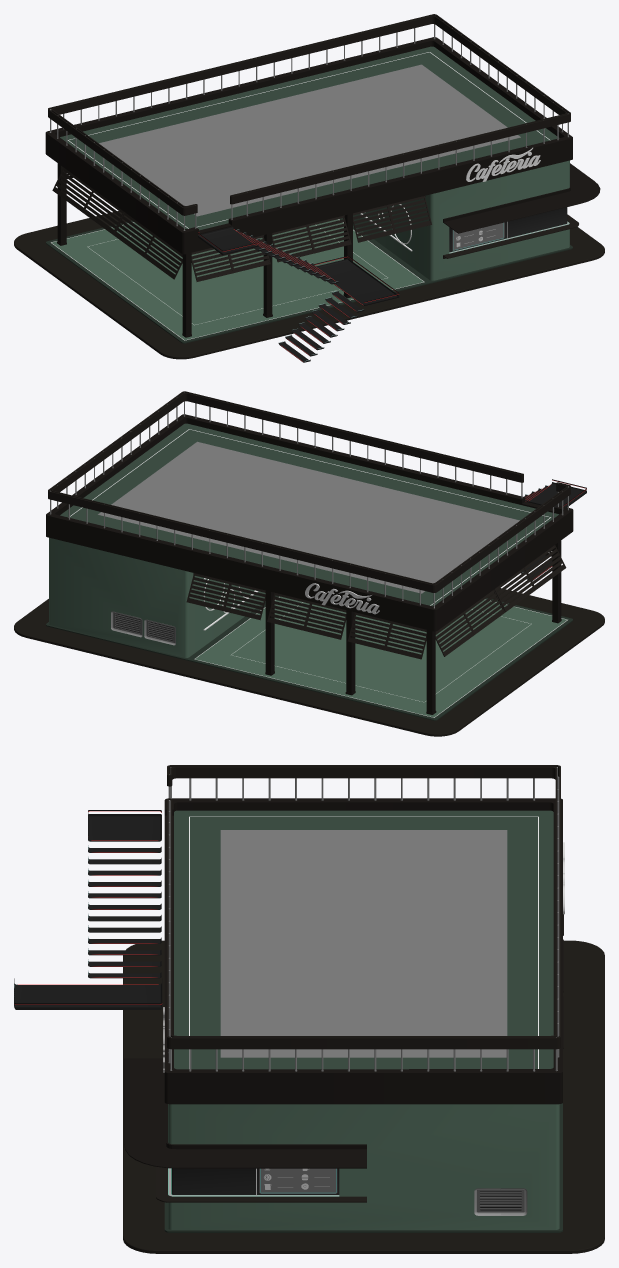
The model's file is Building_Cafe_005_L0.fbx.
3 renders of one model, top to bottom at view 1: azimuth 30°, elevation 25°; view 2: azimuth 150°, elevation 25°; view 3: azimuth 270°, elevation 25°, orthographic. The views are drawn at different scales.
Visible parts, largest first — view 1: Building_Cafe_005_L0; view 2: Building_Cafe_005_L0; view 3: Building_Cafe_005_L0.
Part boxes in pixels (box(x1,y1,x2,y2)): Building_Cafe_005_L0: box(14, 14, 604, 362); Building_Cafe_005_L0: box(14, 391, 604, 736); Building_Cafe_005_L0: box(14, 765, 604, 1253).
Size of the model in its own units: 19.87 by 15.98 by 5.88.
